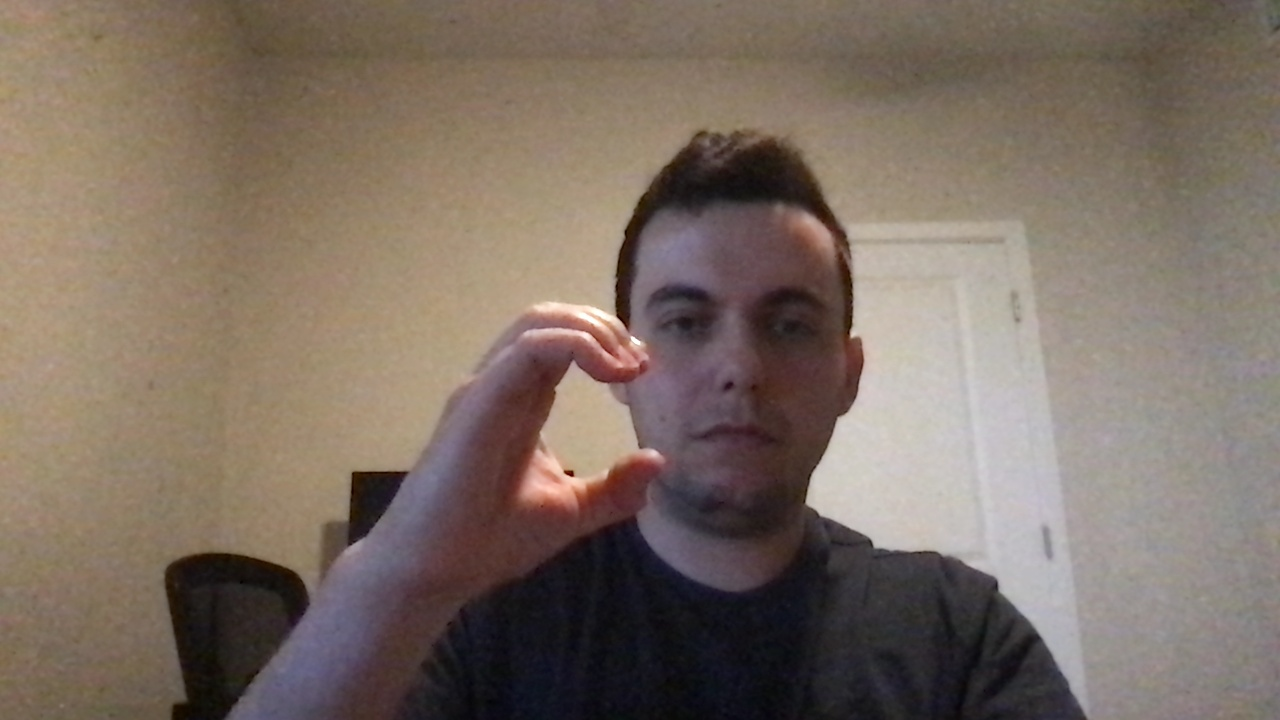c: (383, 288, 671, 562)
